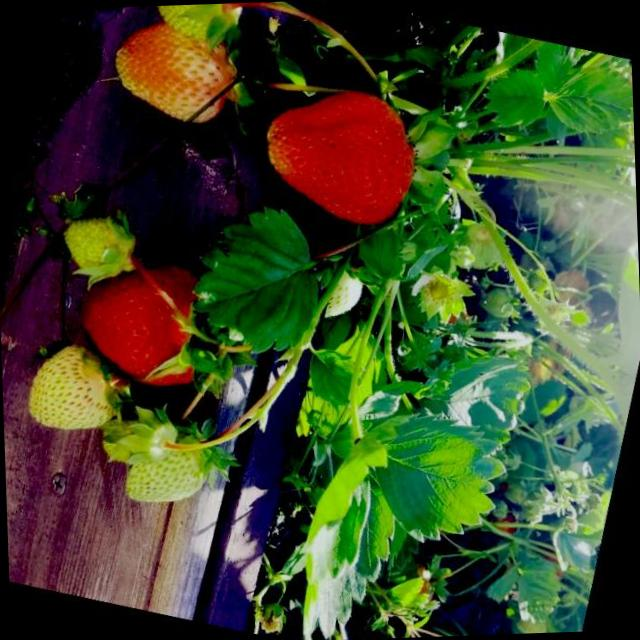ripe: (248, 66, 433, 234), (61, 245, 219, 396), (98, 14, 250, 134)
